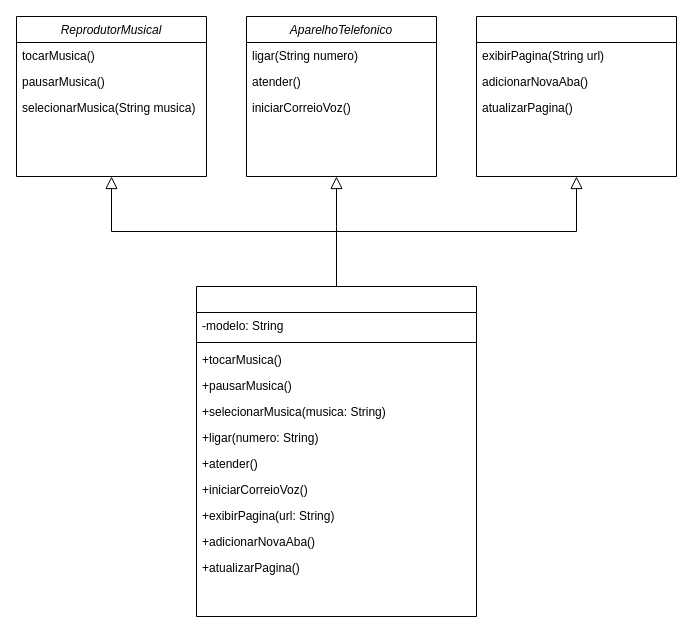
The diagram is 693 pixels wide and 633 high, and some of its shapes have lost their labels. Here are the shapes that lost their labels. From the top down, the box of each, then its label:
(476, 16, 676, 176): NavegadorInternet
(196, 286, 476, 616): iPhone
